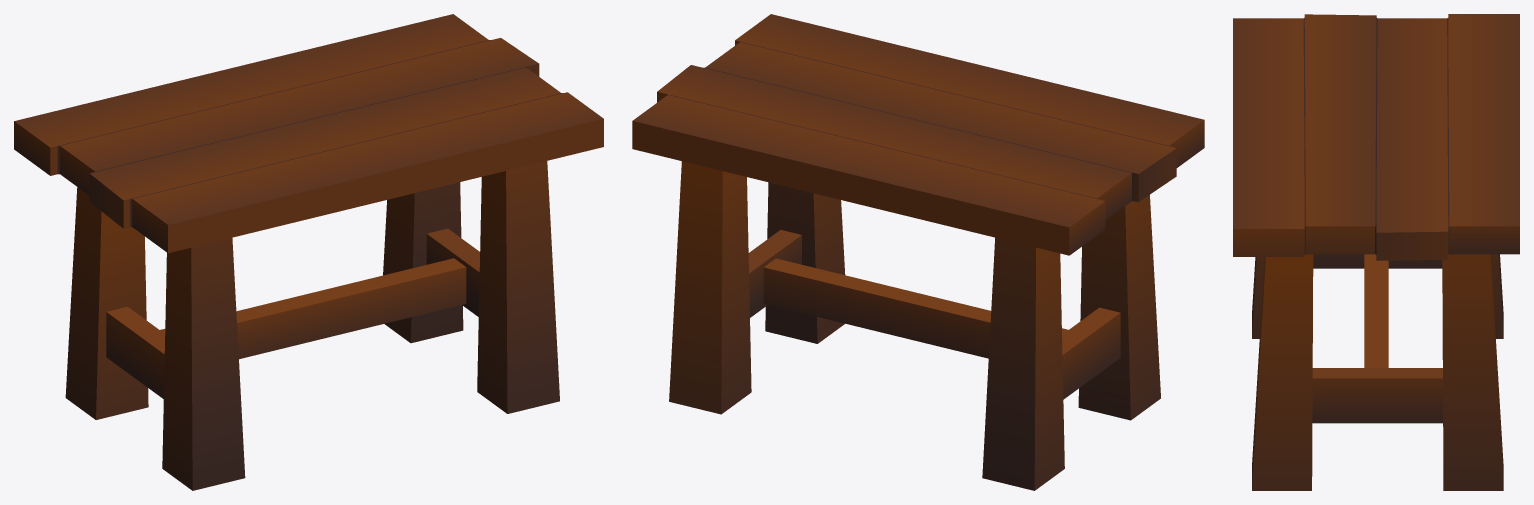
Rendered from SmallTable.fbx.
3 renders of one model, left to right at view 1: azimuth 30°, elevation 25°; view 2: azimuth 150°, elevation 25°; view 3: azimuth 270°, elevation 25°, orthographic.
Visible parts, largest first — view 1: SmallTable; view 2: SmallTable; view 3: SmallTable.
Part boxes in pixels (<box>): SmallTable: <box>14,14,603,490</box>; SmallTable: <box>632,14,1204,490</box>; SmallTable: <box>1233,14,1519,490</box>.
Size of the model in its own units: 126 by 75 by 70.
